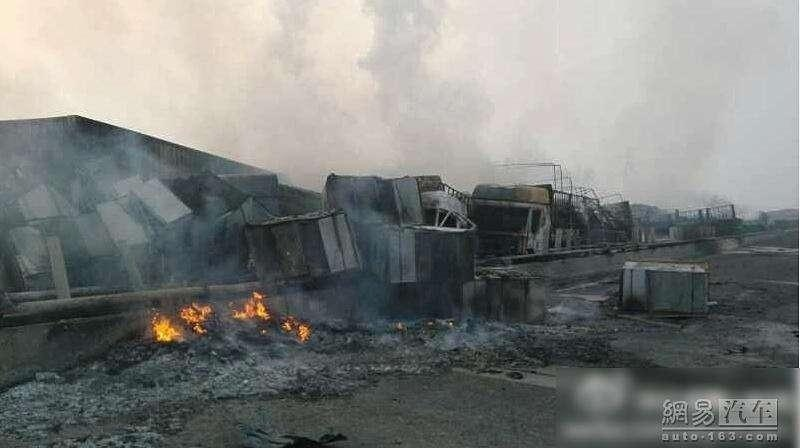fire: (148, 298, 213, 343), (232, 290, 269, 321), (283, 315, 310, 338)
